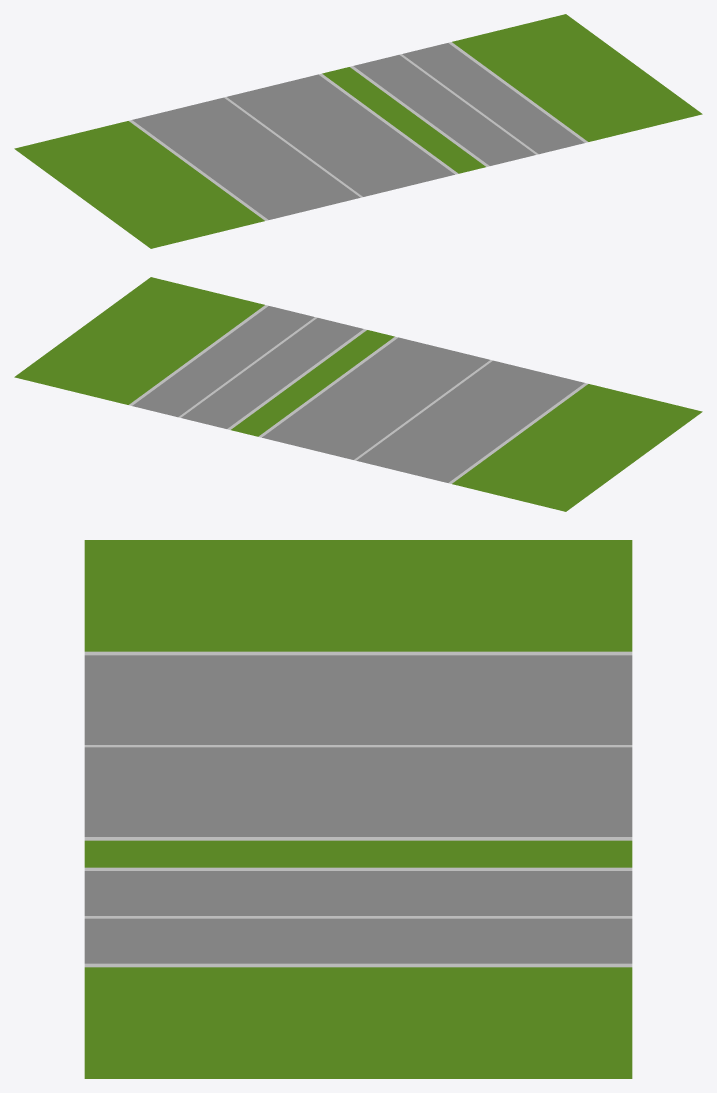
The model's file is Road.fbx.
The picture shows the model from 3 angles, top to bottom: view 1: azimuth 30°, elevation 25°; view 2: azimuth 150°, elevation 25°; view 3: azimuth 270°, elevation 25°; orthographic projection. The views are drawn at different scales.
Parts seen in each view (by area): view 1: Road; view 2: Road; view 3: Road.
Part boxes in pixels (left/top/right/bottom): Road: left=14, top=14, right=702, bottom=248; Road: left=14, top=277, right=702, bottom=511; Road: left=84, top=540, right=632, bottom=1078.
Size of the model in its own units: 6981 by 0.000214 by 3000.
